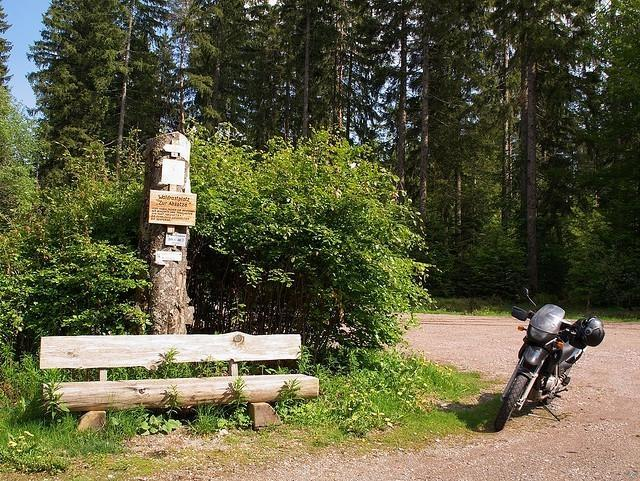motorcycle: (495, 293, 600, 435)
